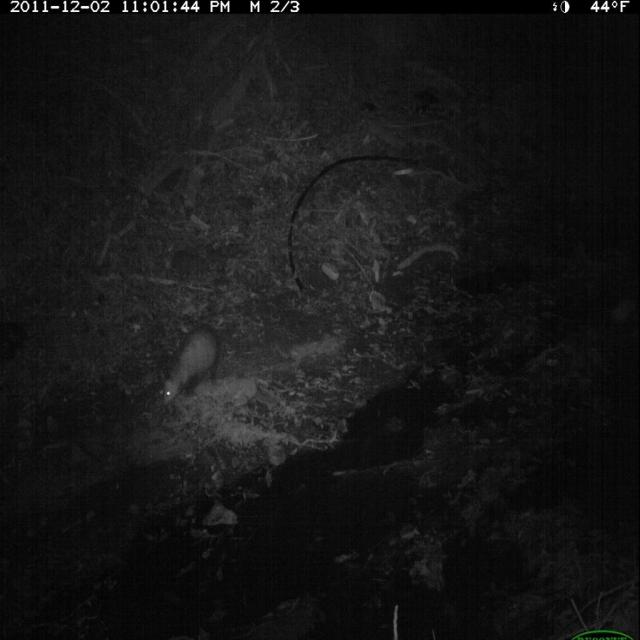opossum: (150, 305, 274, 414)
